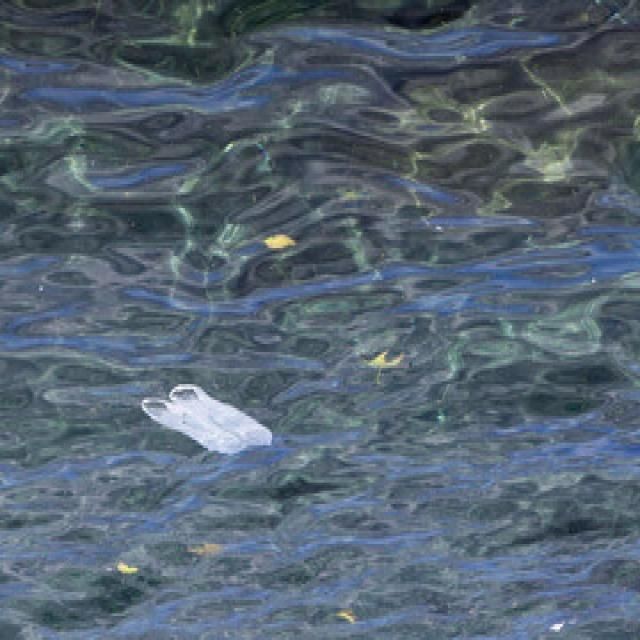Trash: (141, 381, 276, 458)
